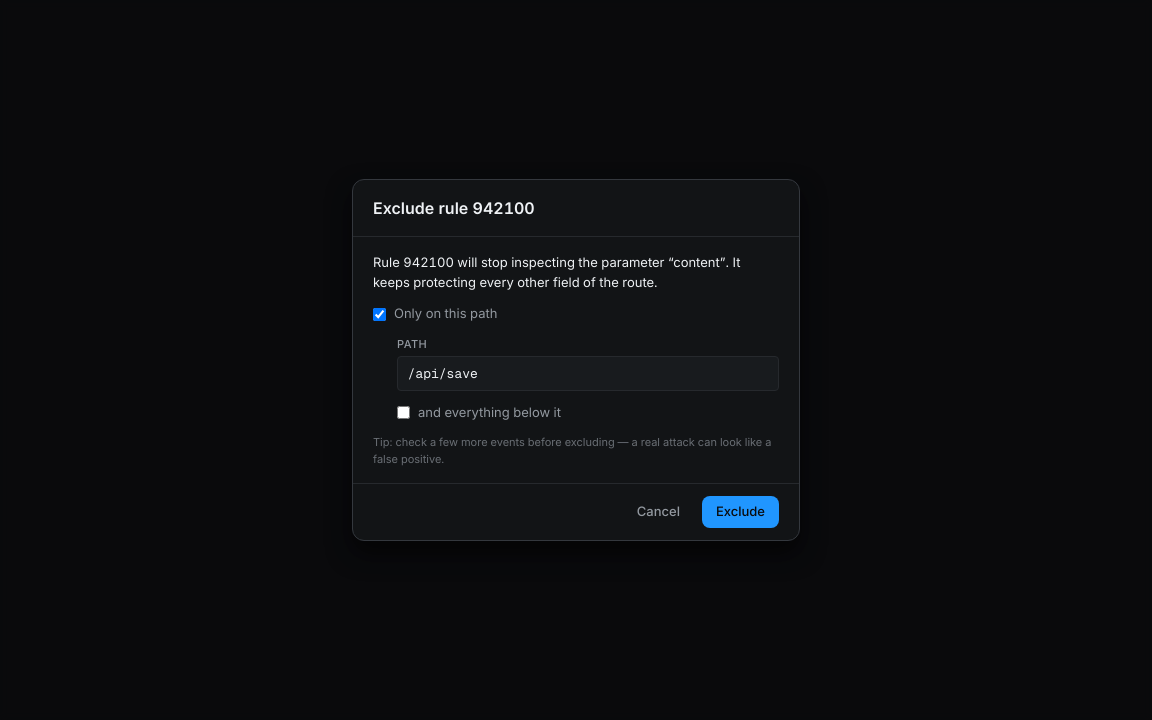
it: WafExcludeDialog › blocks an invalid edited path
Step 1. Replace the text in the field with test id "waf-exclude-path" with "no-slash" → (588, 374), box [397, 356, 779, 391]
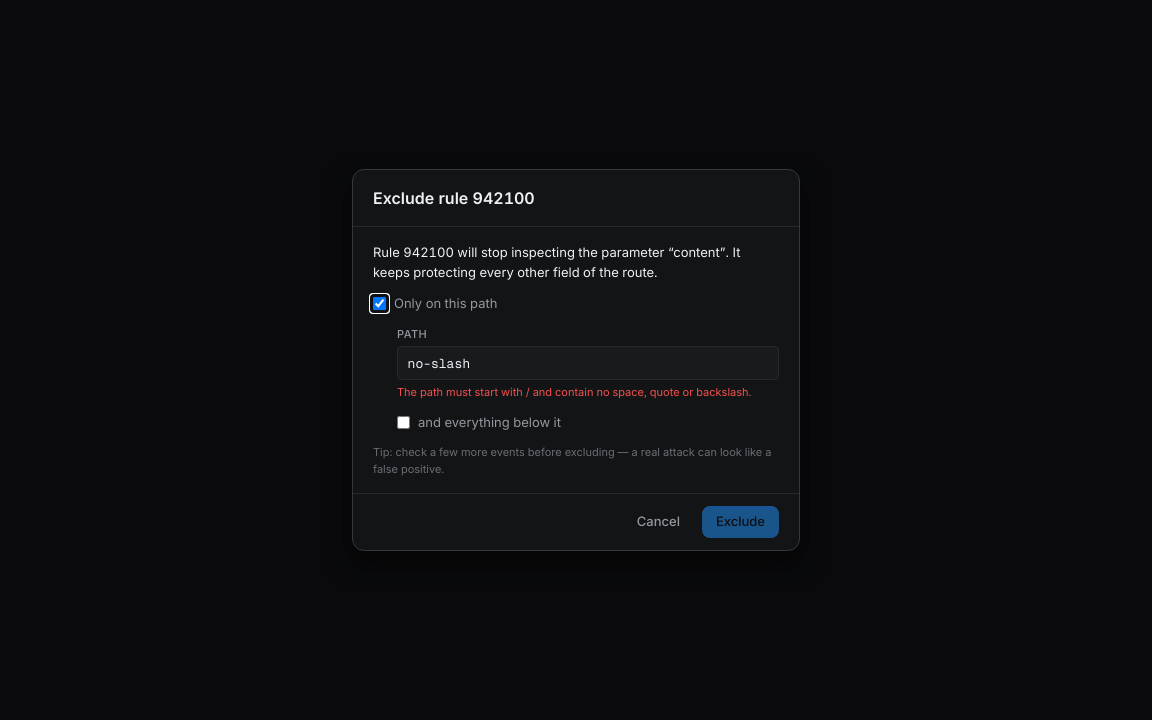
Result: the button with test id "waf-exclude-submit" is disabled at [702, 506, 779, 538]
